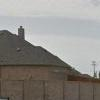Chimney: (15, 18, 34, 49)
